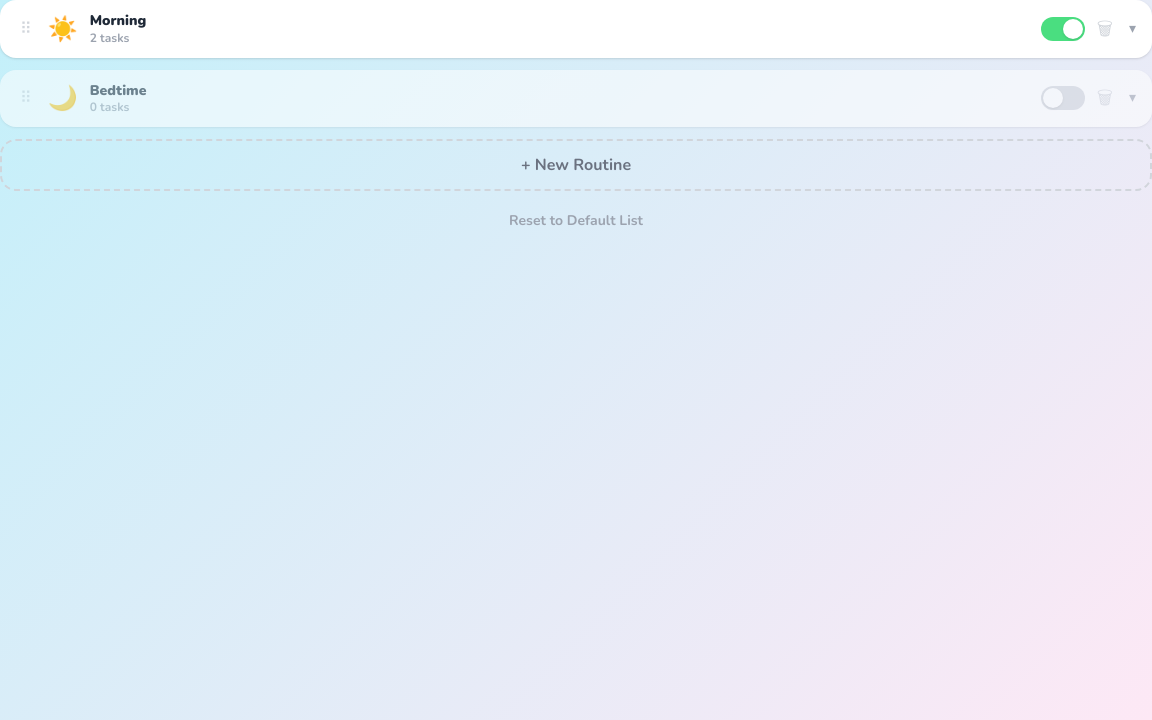
Scenario: RoutinesPanel — expand / collapse › expands a section when the header is clicked
Expected: the text "Brush Teeth" is not shown
Click the text "Morning".
click(118, 20)  # box [90,11,146,30]
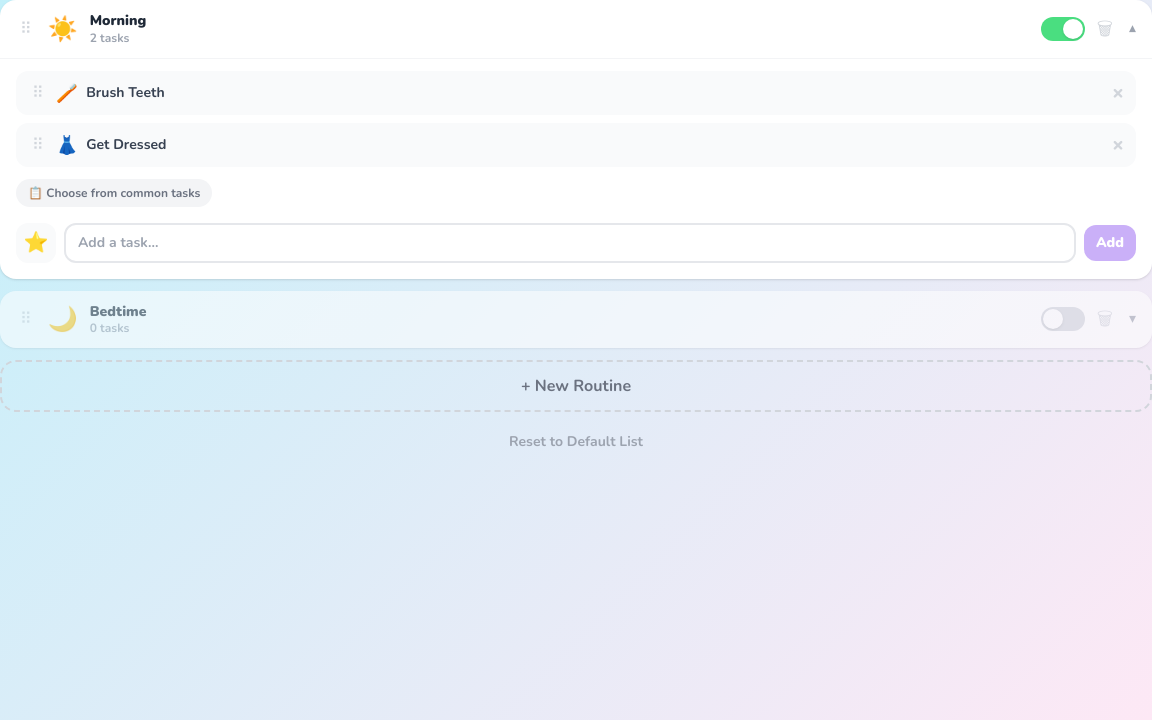
Result: the text "Brush Teeth" is shown at [86,82,165,102]
Result: the text "Get Dressed" is shown at [86,134,166,154]
